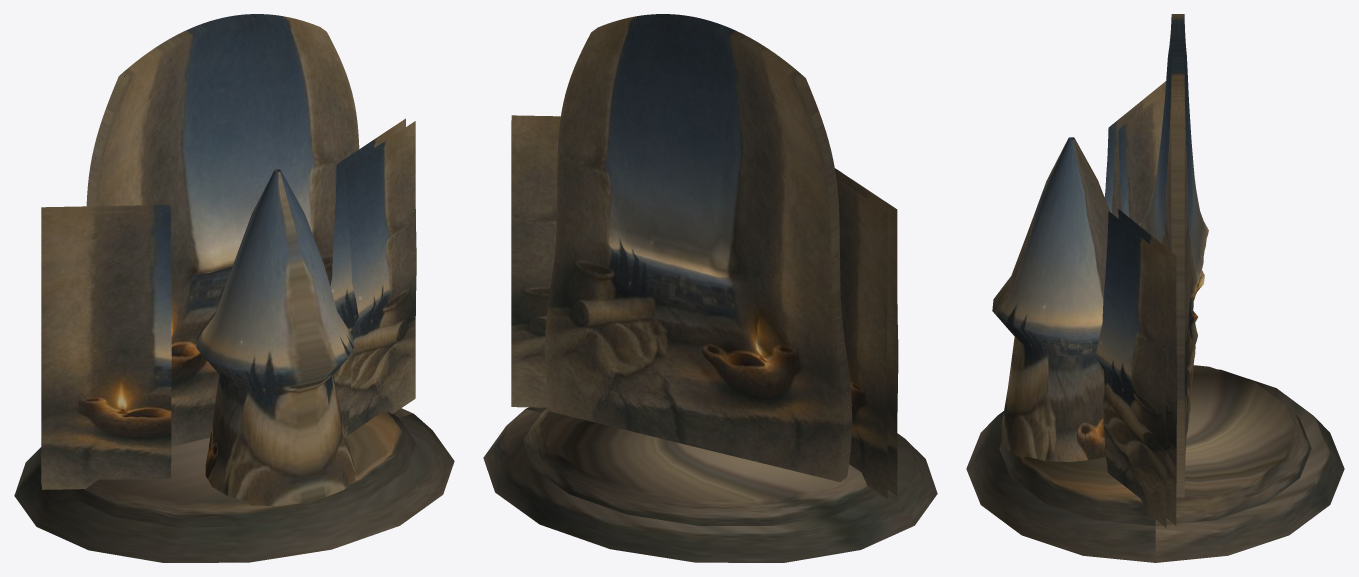
Rendered from a-living-hope-27.glb.
3 views of the same model, side by side, from view 1: azimuth 30°, elevation 25°; view 2: azimuth 150°, elevation 25°; view 3: azimuth 270°, elevation 25° (orthographic). The views are drawn at different scales.
Visible parts, largest first — view 1: PaintingSculptureMonument; view 2: PaintingSculptureMonument; view 3: PaintingSculptureMonument.
Boxes of the visible parts, x1,y1,x2,y2 form: PaintingSculptureMonument: (14,14,454,562); PaintingSculptureMonument: (483,14,937,562); PaintingSculptureMonument: (966,14,1344,562).
Bounding box in the file's own units: 2.76 × 2.99 × 2.35.
1 material, 1 textured.
